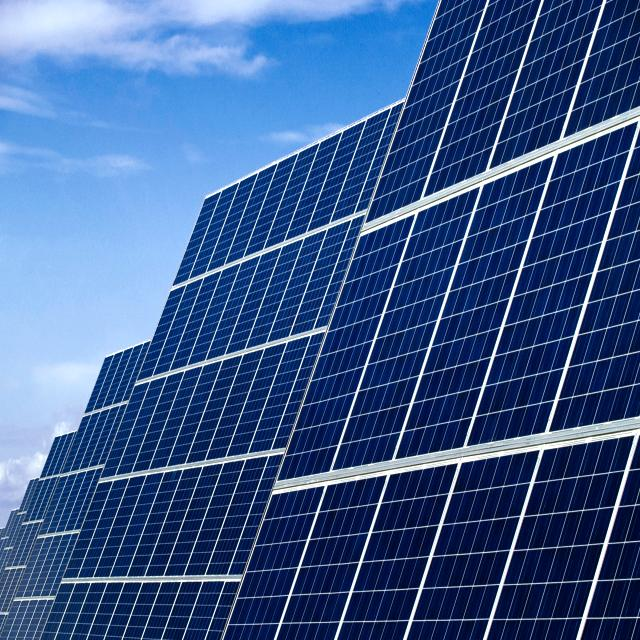crack: (188, 177, 638, 640)
